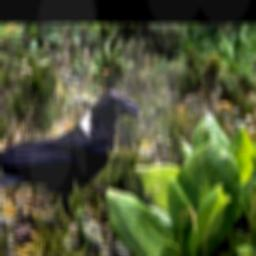Crow: (0, 88, 142, 219)
